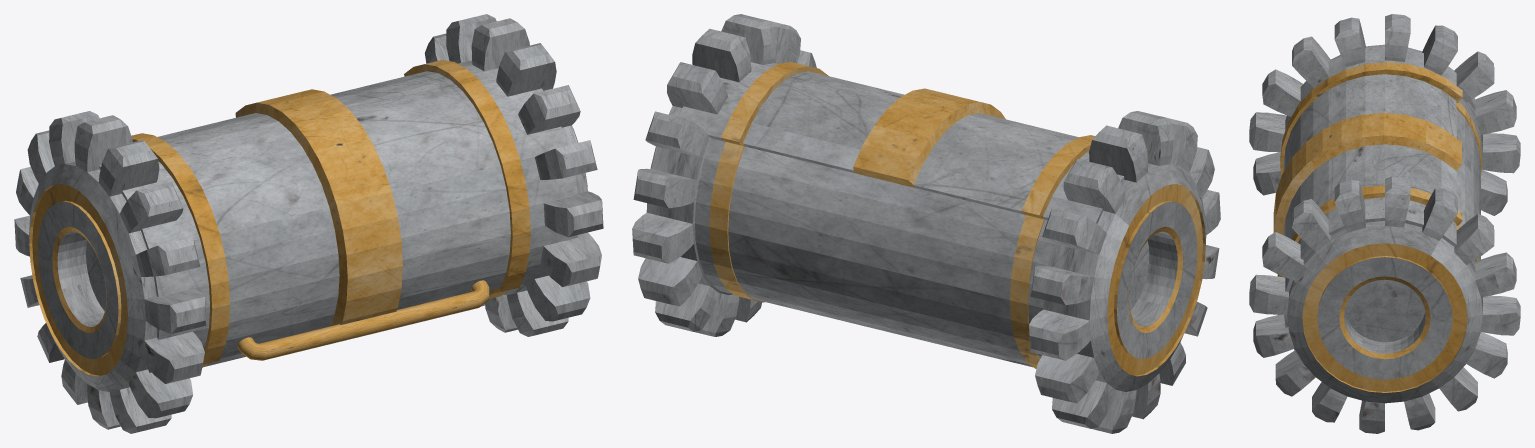
File: gear_box.fbx
3 renders of one model, left to right at view 1: azimuth 30°, elevation 25°; view 2: azimuth 150°, elevation 25°; view 3: azimuth 270°, elevation 25°, orthographic. The views are drawn at different scales.
Visible parts, largest first — view 1: Cylinder.003, Cylinder.001, Cylinder.002; view 2: Cylinder.001, Cylinder.003, Cylinder.002; view 3: Cylinder.001, Cylinder.003, Cylinder.002.
Part boxes in pixels (<box>): Cylinder.003: <box>99,60,578,372</box>; Cylinder.001: <box>14,14,603,433</box>; Cylinder.002: <box>235,89,402,326</box>; Cylinder.001: <box>632,14,1220,433</box>; Cylinder.003: <box>678,62,1124,223</box>; Cylinder.002: <box>853,88,1005,187</box>; Cylinder.001: <box>1249,14,1520,433</box>; Cylinder.003: <box>1277,46,1462,360</box>; Cylinder.002: <box>1273,113,1461,234</box>.
Size of the model in its own units: 465 by 282 by 282.
2 materials, 2 textured.
